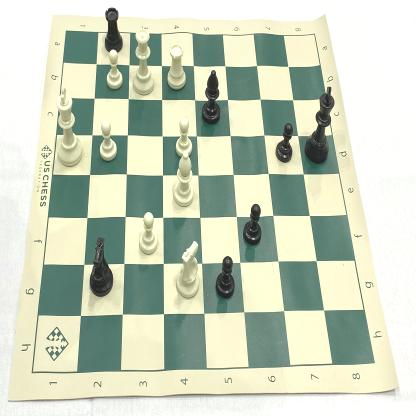black-bishop: (201, 67, 222, 128)
black-king: (303, 83, 337, 167), (275, 118, 295, 166)
black-pawn: (214, 250, 236, 302), (242, 200, 264, 249)
black-rook: (100, 4, 126, 58)
white-bishop: (168, 150, 196, 210)
white-king: (52, 84, 84, 169), (86, 235, 119, 302)
white-knight: (174, 236, 203, 303)
white-pawn: (101, 46, 128, 95), (136, 209, 158, 260), (97, 118, 119, 164), (172, 114, 194, 158)
white-queen: (130, 24, 156, 98)
white-rook: (164, 40, 189, 92)
